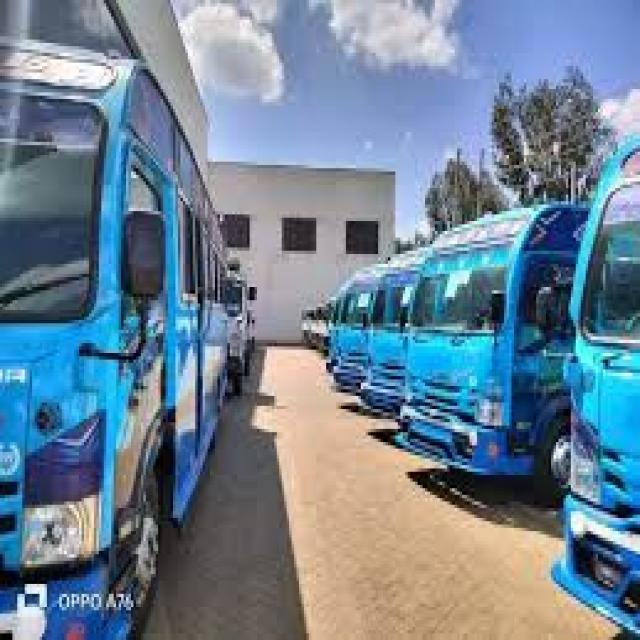bus: (0, 0, 252, 640), (398, 167, 580, 547)
